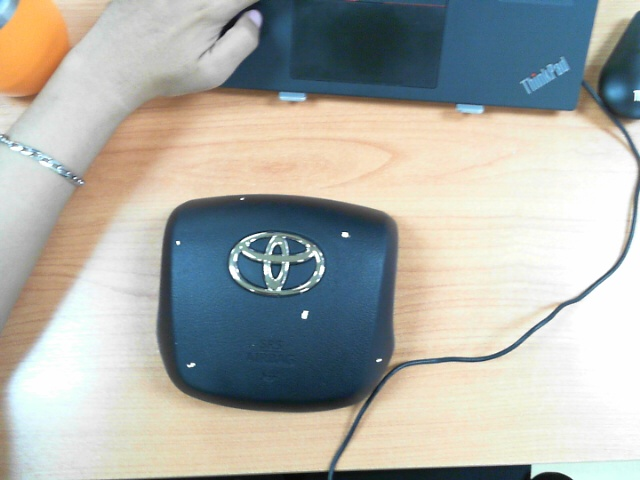Airbag: (301, 310, 309, 320), (185, 362, 196, 368), (341, 232, 349, 238), (175, 240, 182, 246), (375, 358, 383, 363), (240, 197, 245, 201)
